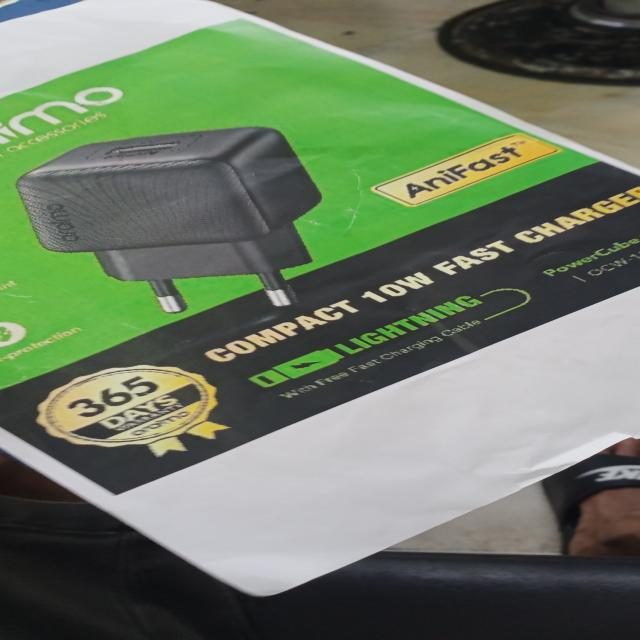PowerCube 10 Sleek OCW-1111ExL53: (525, 224, 640, 287)
